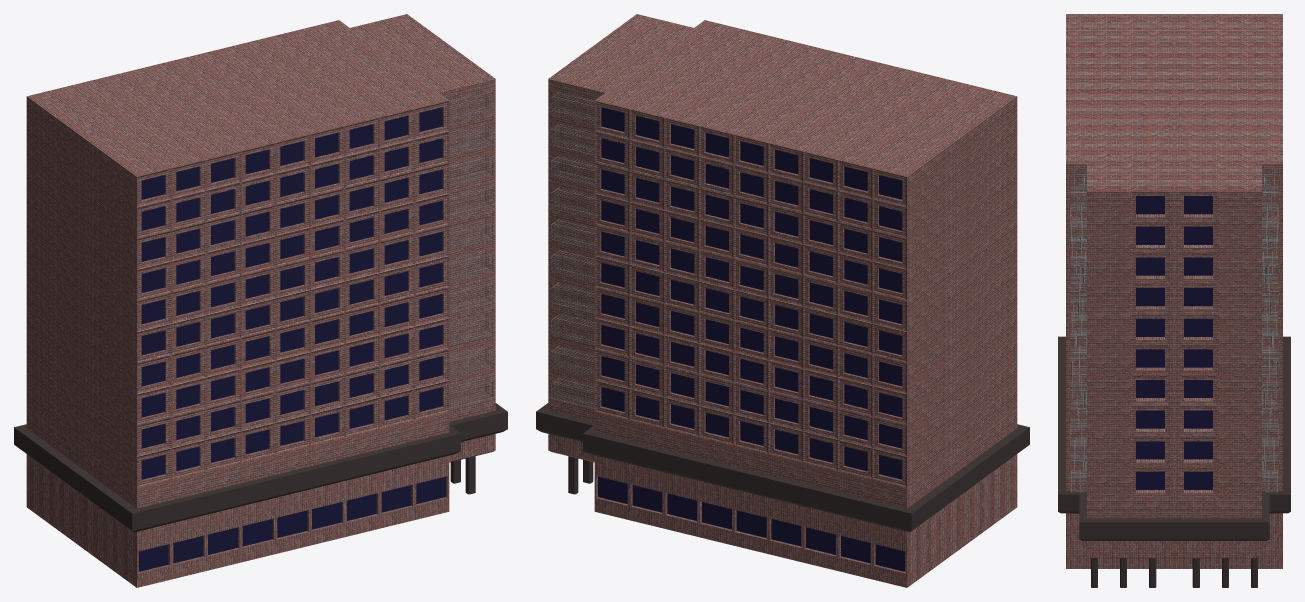
File: newBuilding.fbx
The picture shows the model from 3 angles, left to right: view 1: azimuth 30°, elevation 25°; view 2: azimuth 150°, elevation 25°; view 3: azimuth 270°, elevation 25°; orthographic projection.
Parts seen in each view (by area): view 1: Cube, Cube.001; view 2: Cube, Cube.001; view 3: Cube, Cube.001.
Part boxes in pixels (bbox=[...]): Cube: bbox=[14, 14, 507, 587]; Cube.001: bbox=[449, 92, 493, 408]; Cube: bbox=[536, 14, 1029, 587]; Cube.001: bbox=[550, 92, 594, 408]; Cube: bbox=[1058, 14, 1290, 587]; Cube.001: bbox=[1070, 174, 1278, 492].
Bounding box in the file's own units: 1402 × 1425 × 743.
